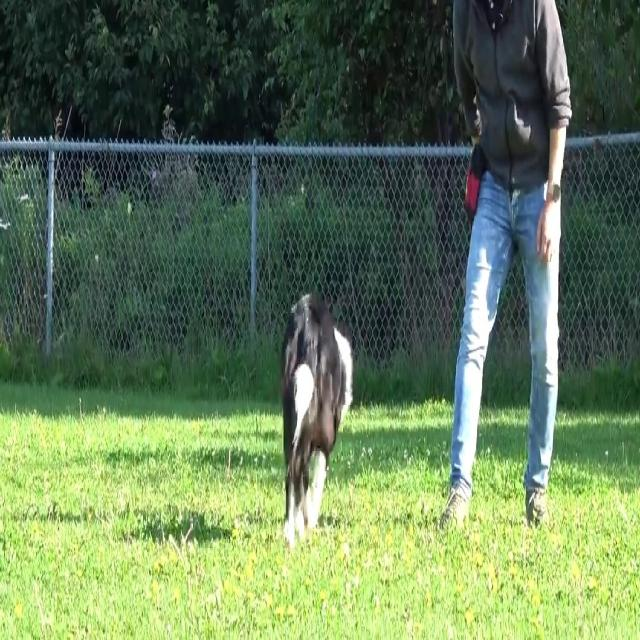Unleashed_Dog: (280, 162, 512, 548)
